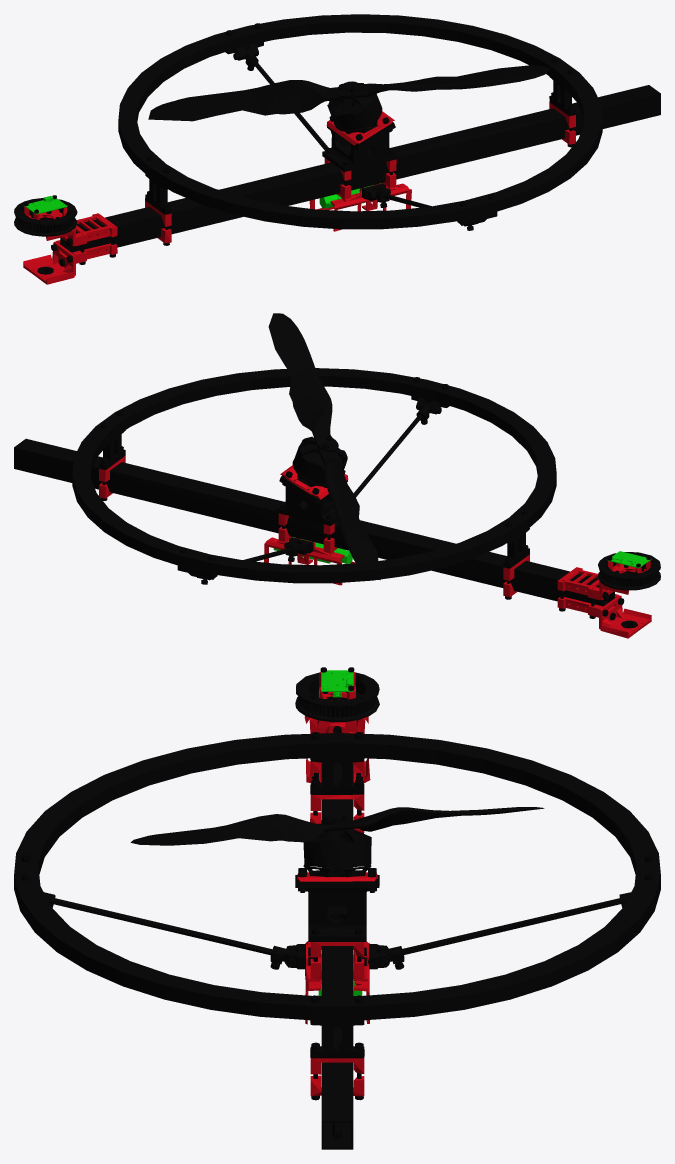
Rendered from tilt_20deg_fix_joint_link2.dae.
3 views of the same model, one above another, from view 1: azimuth 30°, elevation 25°; view 2: azimuth 150°, elevation 25°; view 3: azimuth 270°, elevation 25° (orthographic). The views are drawn at different scales.
Visible parts, largest first — view 1: link2_fix_joint_black, link2_fix_joint_red, link2_fix_joint_green; view 2: link2_fix_joint_black, link2_fix_joint_red, link2_fix_joint_green; view 3: link2_fix_joint_black, link2_fix_joint_red, link2_fix_joint_green.
Part boxes in pixels (x1=…): link2_fix_joint_black: x1=14, y1=14, x2=660, y2=274; link2_fix_joint_red: x1=23, y1=102, x2=575, y2=284; link2_fix_joint_green: x1=23, y1=183, x2=380, y2=214; link2_fix_joint_black: x1=14, y1=313, x2=660, y2=628; link2_fix_joint_red: x1=99, y1=456, x2=651, y2=638; link2_fix_joint_green: x1=273, y1=537, x2=651, y2=568; link2_fix_joint_black: x1=14, y1=667, x2=660, y2=1149; link2_fix_joint_red: x1=297, y1=672, x2=377, y2=1096; link2_fix_joint_green: x1=318, y1=670, x2=362, y2=995.
Bounding box in the file's own units: 0.6066 × 0.3997 × 0.1563.
